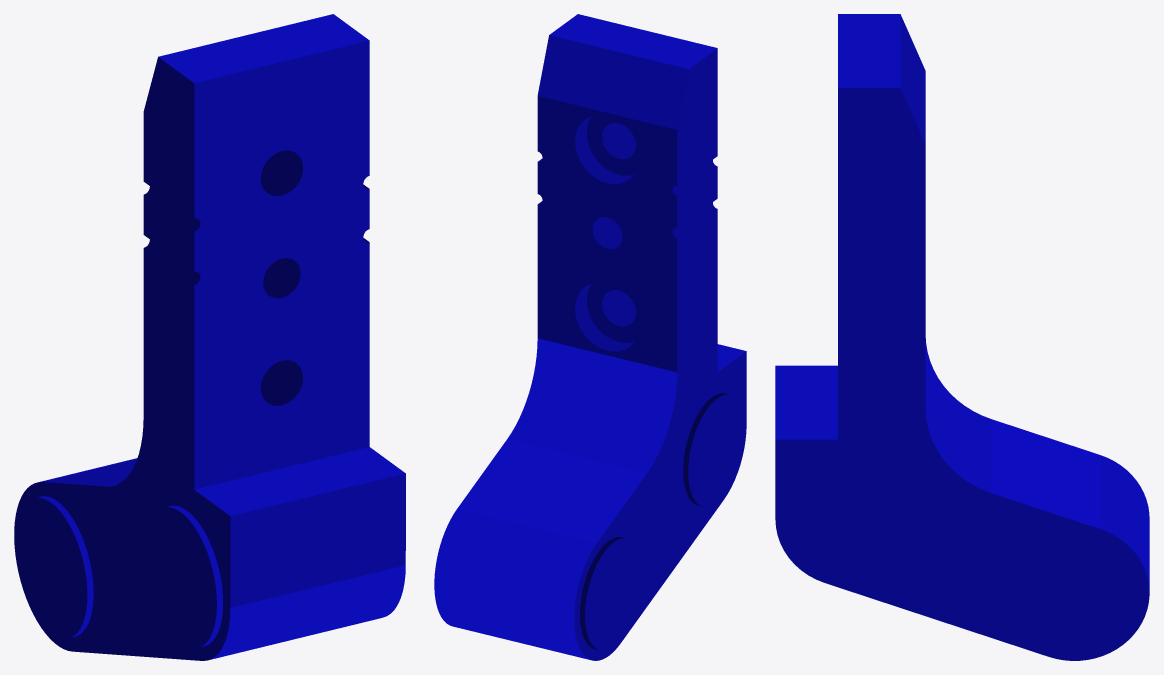
File: robotiq_arg2f_85_inner_finger.dae
3 views of the same model, side by side, from view 1: azimuth 30°, elevation 25°; view 2: azimuth 150°, elevation 25°; view 3: azimuth 270°, elevation 25° (orthographic). The views are drawn at different scales.
Visible parts, largest first — view 1: node0; view 2: node0; view 3: node0.
Part boxes in pixels (x1=…): node0: x1=14, y1=14, x2=405, y2=660; node0: x1=434, y1=14, x2=746, y2=660; node0: x1=775, y1=14, x2=1149, y2=660.
Size of the model in its own units: 15 by 29.9 by 50.51.
